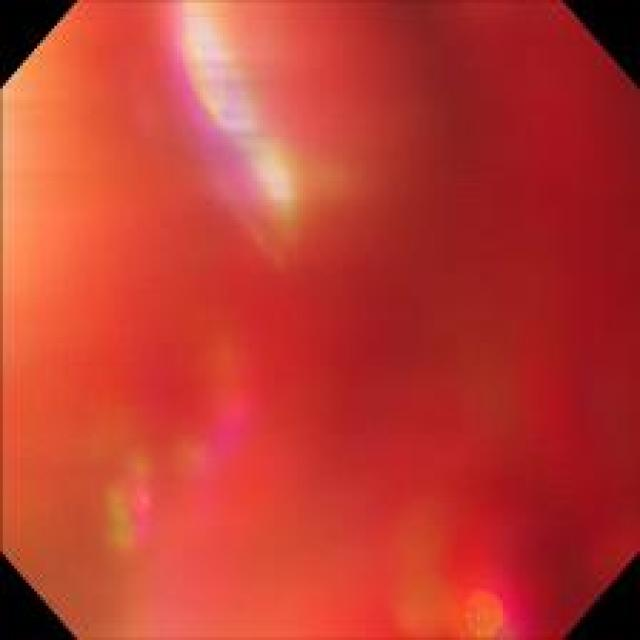color misalignment: (15, 14, 625, 626), (168, 6, 308, 256), (88, 385, 251, 560), (421, 564, 522, 639)
